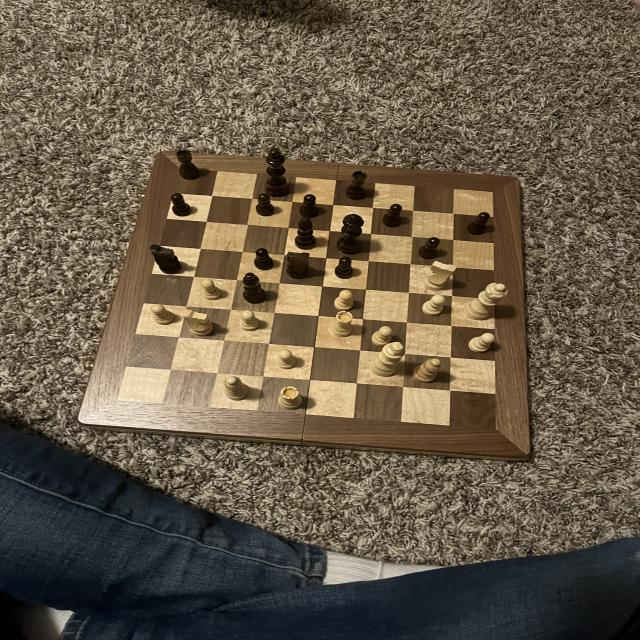bishop: (239, 271, 269, 307), (294, 214, 318, 252)
black-bishop: (261, 145, 294, 199)
black-king: (147, 243, 185, 275), (284, 250, 312, 280)
black-knight: (166, 190, 194, 219), (465, 211, 492, 238), (380, 202, 405, 229), (417, 236, 442, 260), (253, 192, 276, 218), (298, 193, 321, 217), (254, 246, 274, 272), (333, 256, 355, 279)
black-pawn: (334, 212, 366, 256)
black-queen: (174, 147, 203, 181), (343, 170, 372, 200)
black-rook: (220, 374, 253, 403), (411, 357, 444, 385)
white-bishop: (367, 340, 408, 380)
white-king: (421, 260, 458, 292), (179, 307, 215, 338)
white-knight: (196, 277, 225, 303), (147, 303, 177, 327), (466, 331, 495, 355), (419, 293, 448, 317), (236, 308, 262, 334), (369, 324, 396, 348), (274, 348, 300, 372), (331, 289, 357, 311)
white-pawn: (461, 280, 509, 322)
white-queen: (326, 310, 356, 340), (276, 385, 306, 412)
